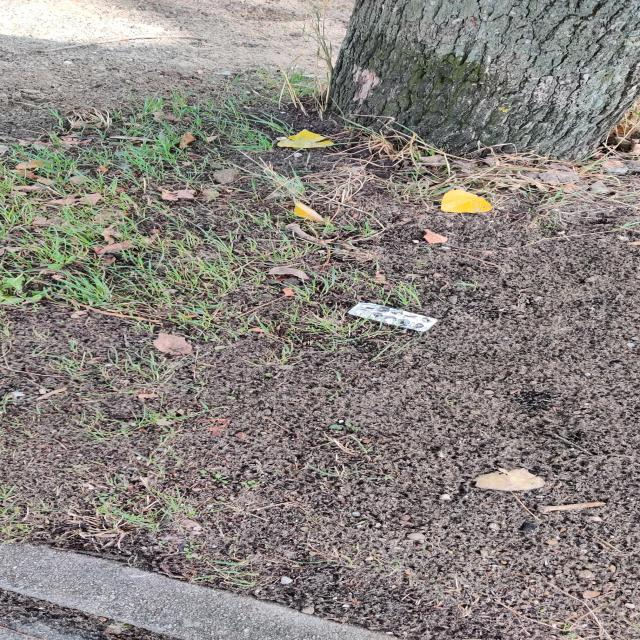litter: (346, 301, 437, 332)
